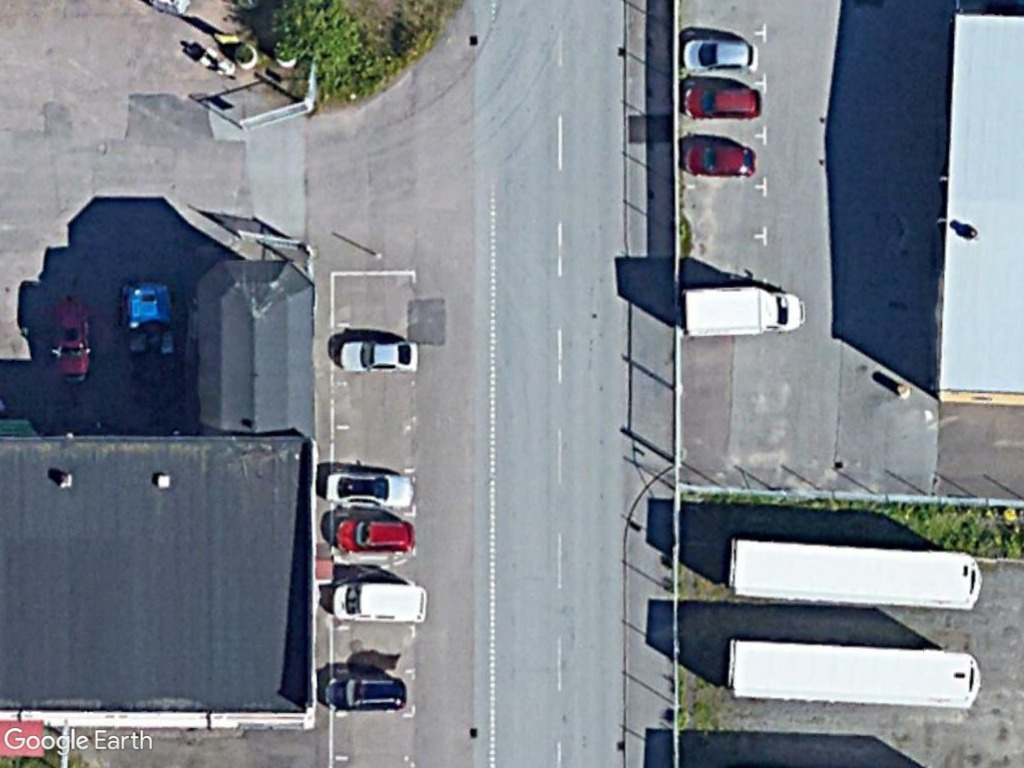car: (321, 467, 420, 512), (319, 670, 412, 717), (336, 333, 420, 380), (330, 515, 419, 559), (678, 32, 764, 77), (679, 82, 766, 124), (679, 139, 760, 179)
truck: (680, 281, 811, 340)
van: (329, 577, 433, 626)
